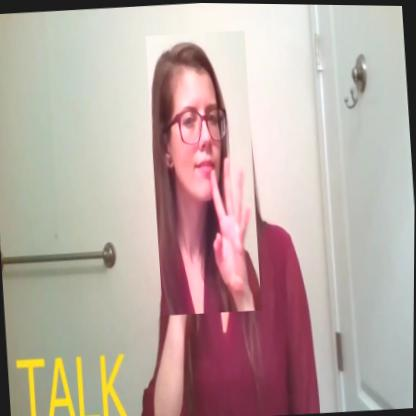Talk: (144, 28, 264, 317)
